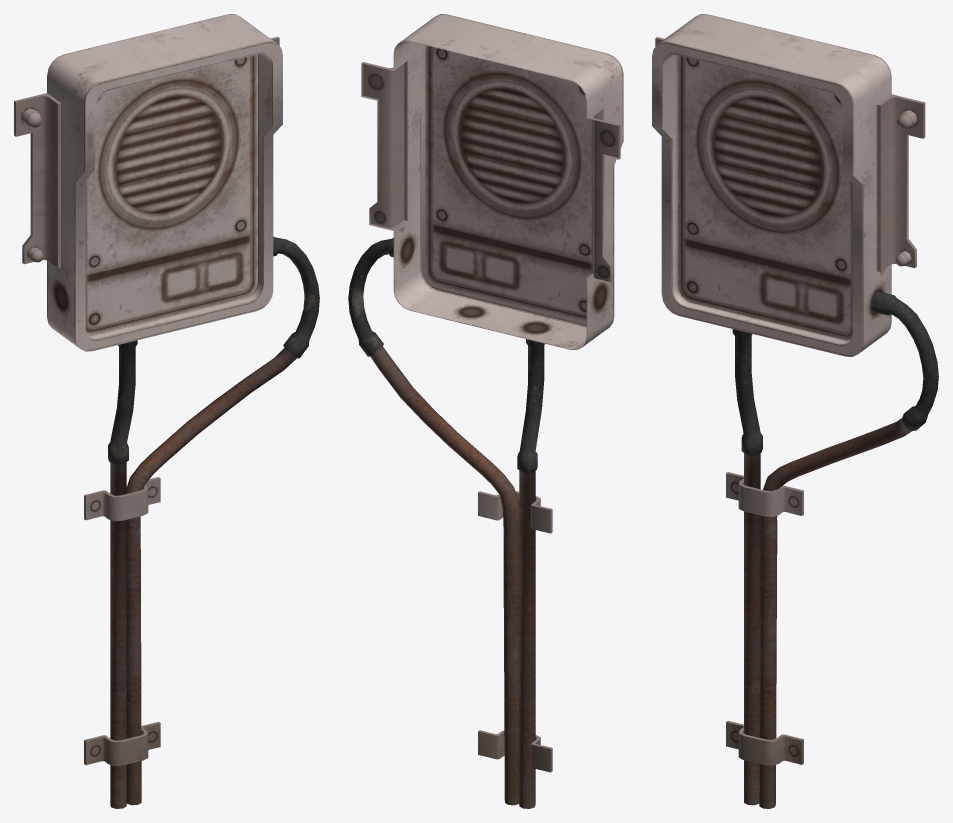
The model's file is freebie_-_game_art_industrial_buzzer.glb.
3 renders of one model, left to right at view 1: azimuth 30°, elevation 25°; view 2: azimuth 150°, elevation 25°; view 3: azimuth 330°, elevation 25°, orthographic. The views are drawn at different scales.
Visible parts, largest first — view 1: Console_LP_01 - Default_0; view 2: Console_LP_01 - Default_0; view 3: Console_LP_01 - Default_0.
Part boxes in pixels (box(x1,y1,x2,y2)): Console_LP_01 - Default_0: box(14, 14, 319, 808); Console_LP_01 - Default_0: box(348, 14, 623, 808); Console_LP_01 - Default_0: box(652, 14, 938, 808).
Size of the model in its own units: 88.07 by 220 by 20.31.
Materials: 1 (1 with a texture image).
